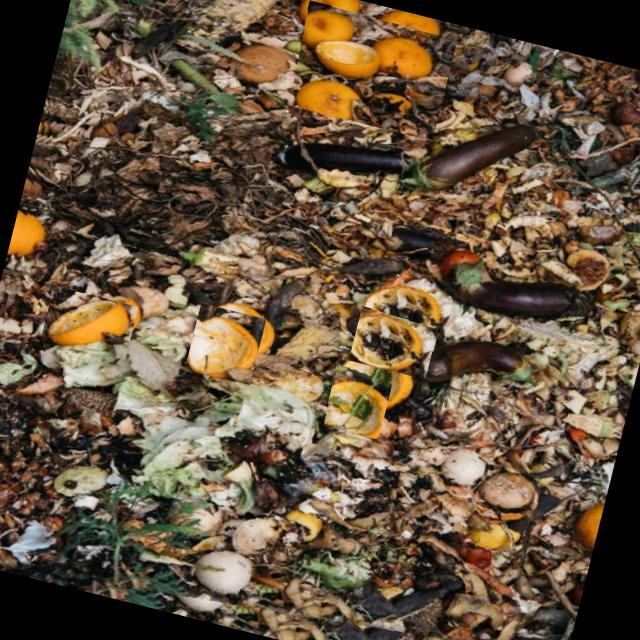Organic: (0, 0, 640, 640), (284, 0, 458, 141), (39, 285, 138, 363), (184, 303, 266, 387), (348, 306, 439, 380), (321, 364, 394, 439)
